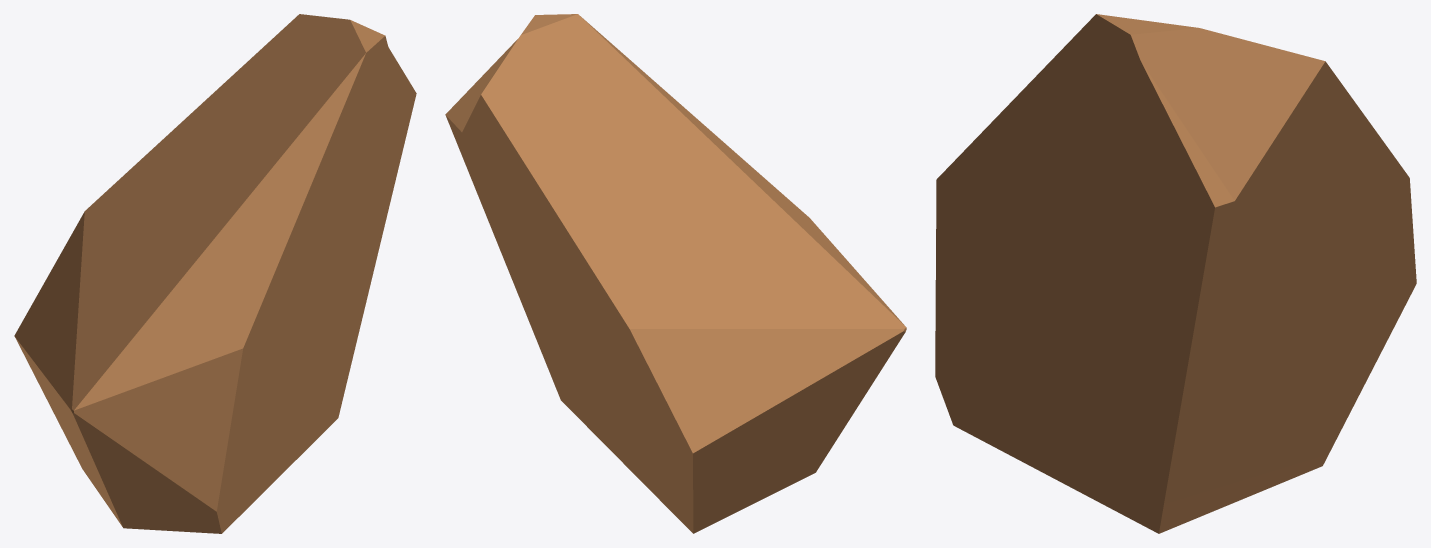
Rendered from asteroid_5_1.glb.
The picture shows the model from 3 angles, left to right: view 1: azimuth 30°, elevation 25°; view 2: azimuth 150°, elevation 25°; view 3: azimuth 270°, elevation 25°; orthographic projection. The views are drawn at different scales.
Parts seen in each view (by area): view 1: Asteriod_cell_5_1; view 2: Asteriod_cell_5_1; view 3: Asteriod_cell_5_1.
Part boxes in pixels (left/top/right/bottom): Asteriod_cell_5_1: left=14, top=14, right=416, bottom=533; Asteriod_cell_5_1: left=445, top=14, right=906, bottom=533; Asteriod_cell_5_1: left=935, top=14, right=1416, bottom=533.
Bounding box in the file's own units: 1.22 × 1.22 × 0.9067.
